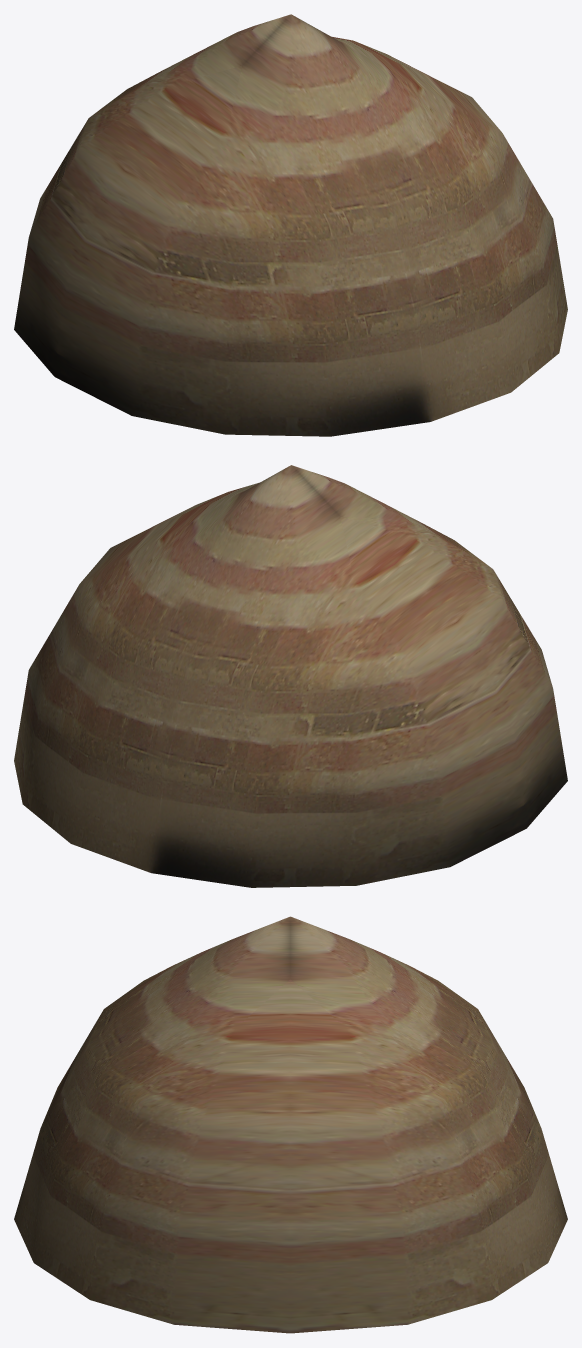
Rendered from dome.obj.
3 views of the same model, one above another, from view 1: azimuth 30°, elevation 25°; view 2: azimuth 150°, elevation 25°; view 3: azimuth 270°, elevation 25° (orthographic).
Parts seen in each view (by area): view 1: dome; view 2: dome; view 3: dome.
Part boxes in pixels (x1,y1,x2,y2): dome: (14, 14, 567, 436); dome: (14, 465, 567, 887); dome: (14, 916, 567, 1333).
Bounding box in the file's own units: 296 × 183 × 304.
